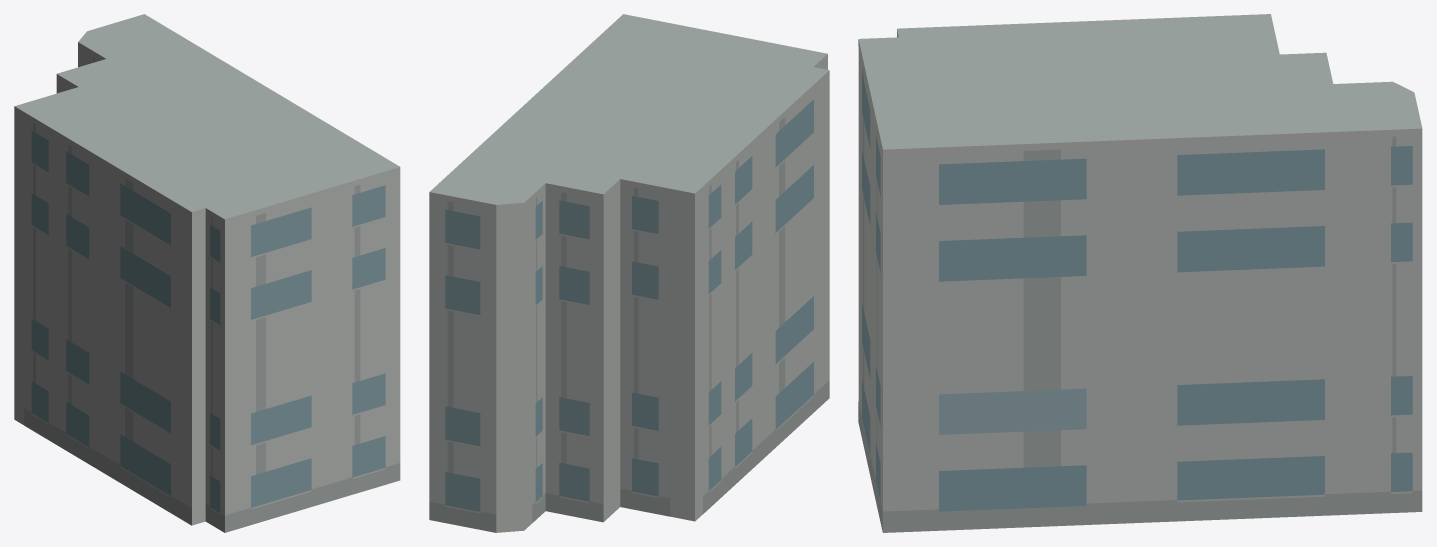
The model's file is survey-upis-32985673.glb.
The picture shows the model from 3 angles, left to right: view 1: azimuth 30°, elevation 25°; view 2: azimuth 150°, elevation 25°; view 3: azimuth 270°, elevation 25°; orthographic projection. The views are drawn at different scales.
Visible parts, largest first — view 1: survey-upis-32985673.tmp; view 2: survey-upis-32985673.tmp; view 3: survey-upis-32985673.tmp.
Part boxes in pixels (x1,y1,x2,y2): survey-upis-32985673.tmp: (14,14,400,532); survey-upis-32985673.tmp: (429,14,829,532); survey-upis-32985673.tmp: (858,14,1422,532).
Size of the model in its own units: 10.33 by 13.6 by 18.14.
